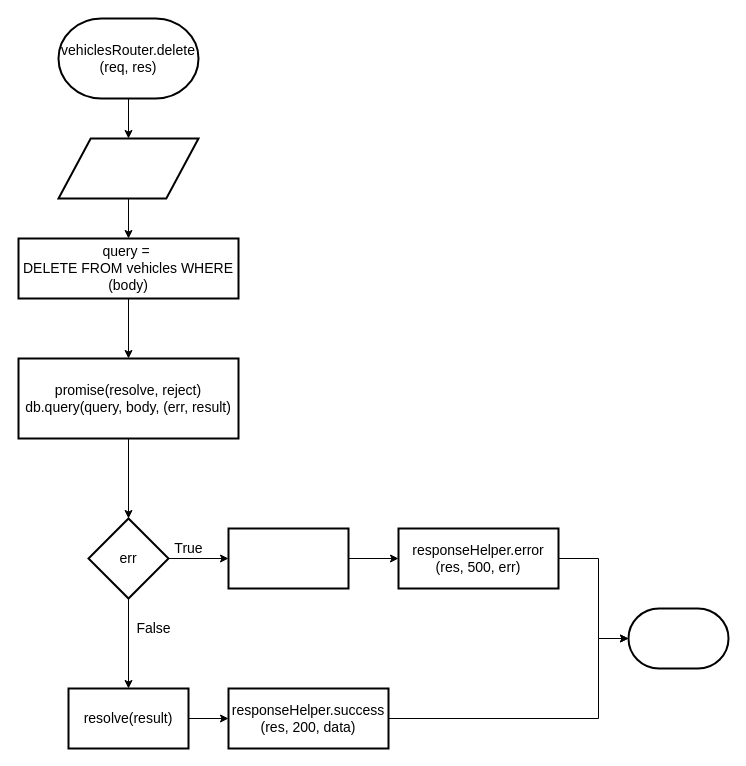
This 746x766 diagram has some shape labels left out. Here are the shapes that lost their labels. From the top down, the centre of each, then its label:
At (128,168): "{ body } = req".
At (288,558): "reject(err)".
At (678,638): "Finish".
